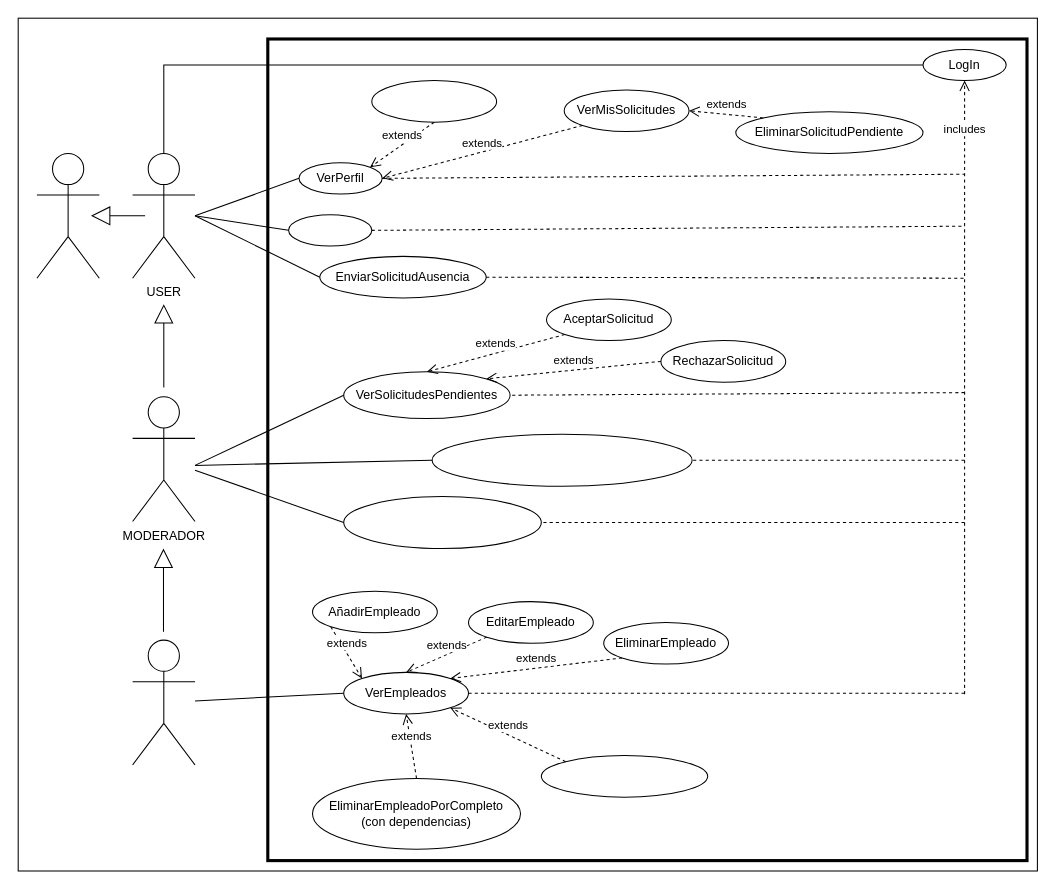
Some shapes in this 1056 by 889 pixel diagram are drawn without their labels. The centre of each missing label's shape, as x and y in pixels:
"ADMIN" belongs at point (163, 702).
"ConsultarRegistroSolicitudes" belongs at point (442, 522).
"EMPLEADO" belongs at point (67, 215).
"LogOut" belongs at point (330, 230).
"ModificarPerfil" belongs at point (434, 101).
"ResetDiasVacaciones" belongs at point (624, 776).
"VerEmpleadosAusentesPróximos7Dias" belongs at point (561, 459).
